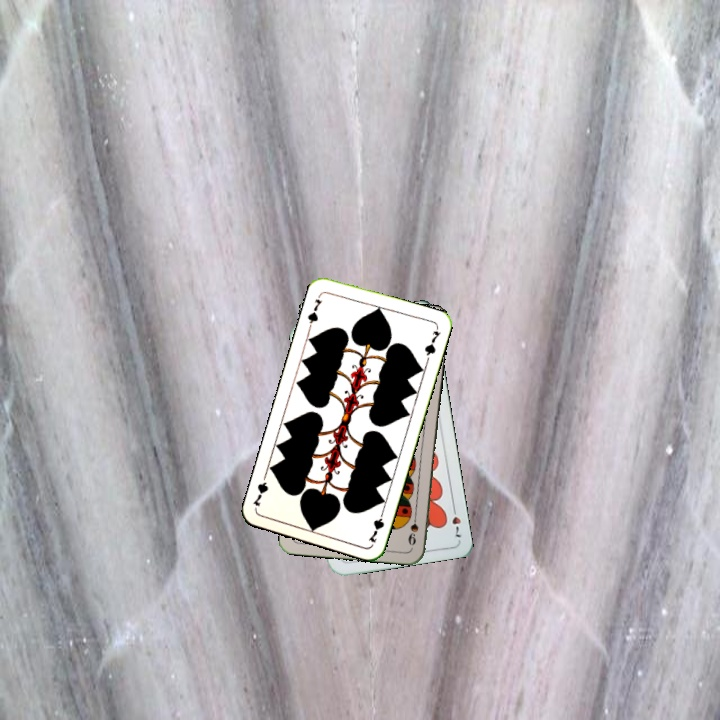G7: (364, 506, 387, 545), (303, 290, 325, 330)
H7: (448, 501, 463, 540)
S9: (404, 508, 421, 548)
